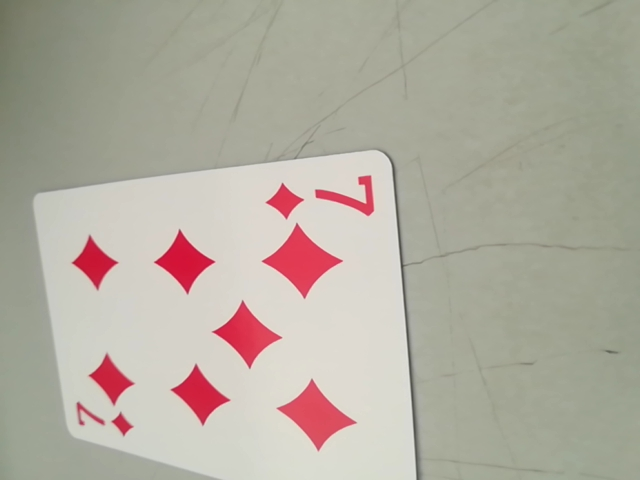fk 7: (258, 165, 378, 222), (69, 399, 133, 446)
